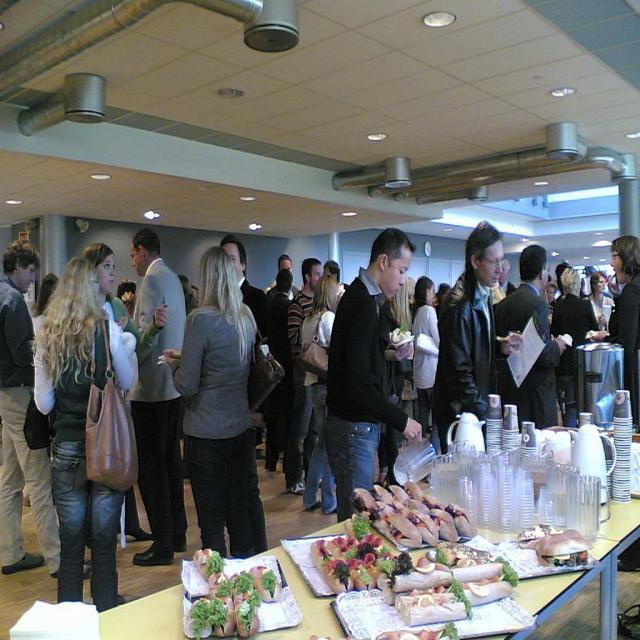body: (31, 253, 140, 614), (162, 244, 268, 562), (0, 236, 92, 582), (322, 226, 423, 525), (79, 239, 169, 552), (123, 224, 190, 568), (432, 218, 526, 460), (493, 243, 568, 434), (403, 260, 578, 328), (281, 254, 323, 498), (299, 271, 339, 517), (590, 232, 640, 428), (551, 265, 602, 429), (378, 272, 413, 488), (262, 267, 296, 475), (410, 274, 444, 462), (218, 234, 266, 355), (114, 270, 201, 333), (582, 268, 616, 340), (30, 272, 61, 338), (264, 252, 302, 302), (322, 258, 348, 315)
